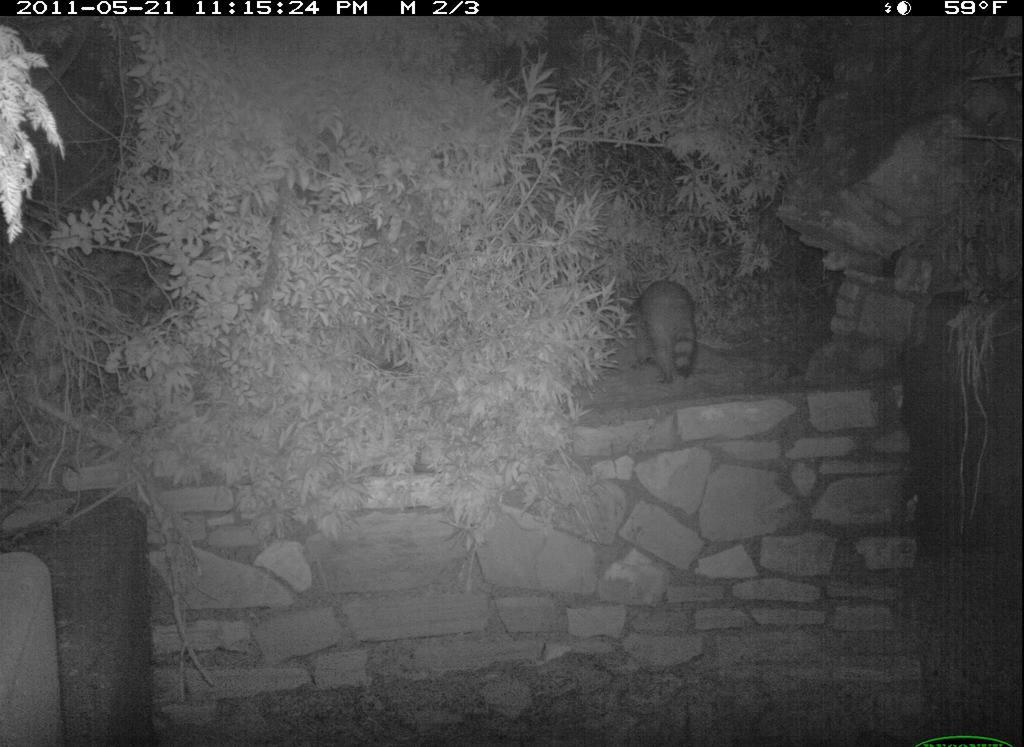raccoon: (626, 265, 712, 395)
